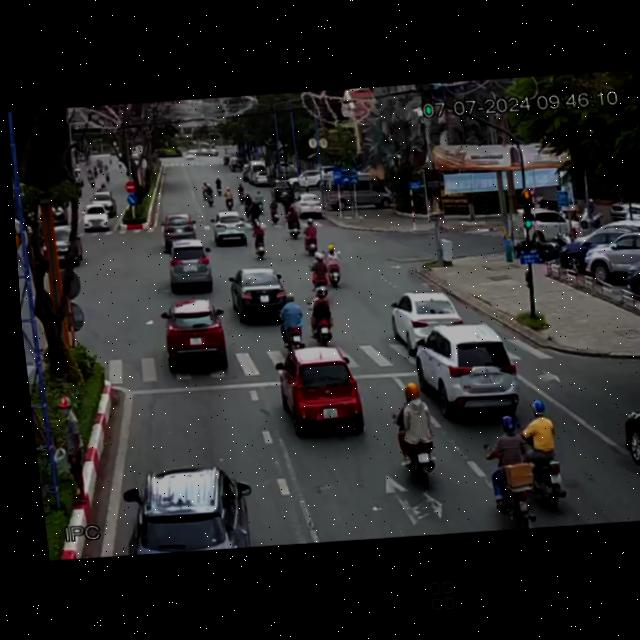Green: (515, 199, 538, 251)
